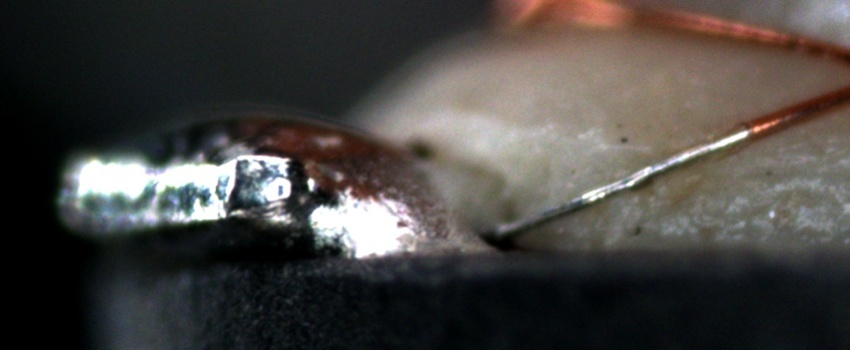DL: (684, 141, 849, 205)
TS: (481, 125, 754, 240)
